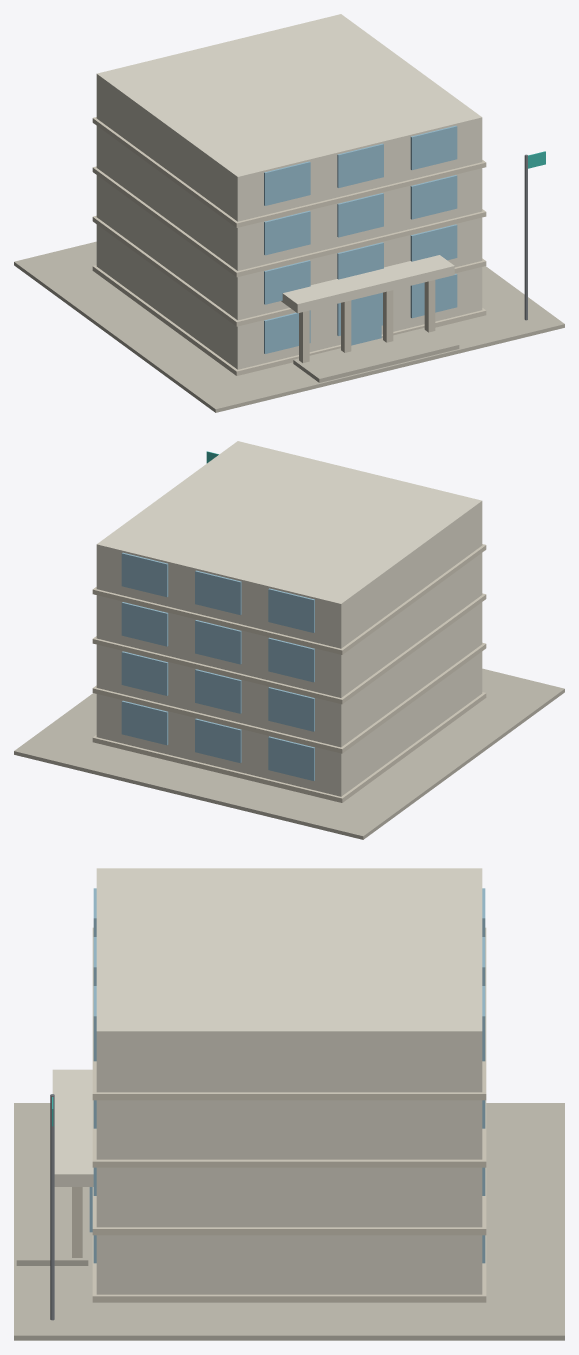
Rendered from building.government-office.glb.
3 renders of one model, top to bottom at view 1: azimuth 30°, elevation 25°; view 2: azimuth 150°, elevation 25°; view 3: azimuth 270°, elevation 25°, orthographic. The views are drawn at different scales.
Parts seen in each view (by area): view 1: building.government-office; view 2: building.government-office; view 3: building.government-office.
Boxes of the visible parts, <box> form: building.government-office: <box>14,14,564,412</box>; building.government-office: <box>14,441,564,839</box>; building.government-office: <box>14,868,564,1340</box>.
Size of the model in its own units: 20 by 11 by 20.
